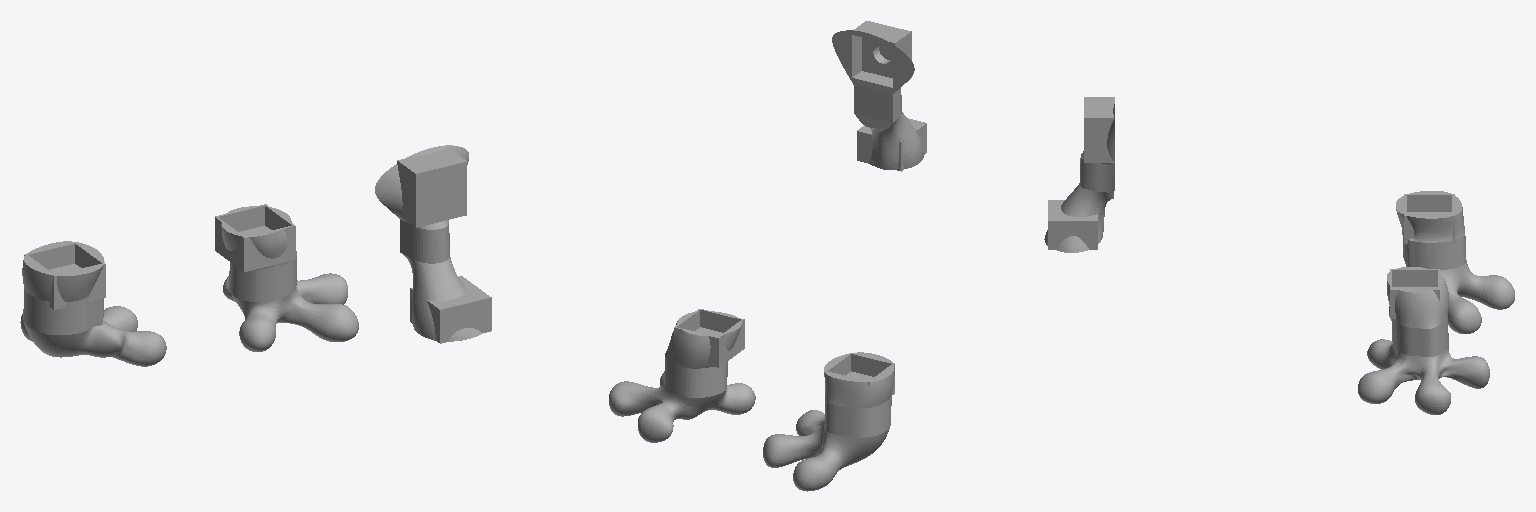
robot.urdf — FrogBot1_top-FrogBot1-z-6_bottom-FrogBot1-z-6:
<?xml version="1.0" ?>
<robot name="FrogBot1_top-FrogBot1-z-6_bottom-FrogBot1-z-6">

<material name="pla_5_percent_infill">
  <color rgba="0.700 0.700 0.700 1.000"/>
</material>

<link name="base_link">
  <inertial>
    <origin xyz="0 0 0" rpy="0 0 0"/>
    <mass value="1.4103143072721238"/>
    <inertia ixx="0.004671865419262023" iyy="0.01102984328633242" izz="0.011972094032648898" ixy="0.00015185420958179873" iyz="8.583160306759328e-05" ixz="-0.0012132770853355082"/>
  </inertial>
  <visual>
    <origin xyz="0 0 0" rpy="0 0 0"/>
    <geometry>
      <mesh filename="simple_meshes/base_link.stl" scale="0.001 0.001 0.001"/>
    </geometry>
    <material name="pla_5_percent_infill"/>
  </visual>
  <collision>
    <origin xyz="0 0 0" rpy="0 0 0"/>
    <geometry>
      <mesh filename="simple_meshes/base_link.stl" scale="0.001 0.001 0.001"/>
    </geometry>
  </collision>
</link>

<link name="body_1_0_1">
  <inertial>
    <origin xyz="-0.045735 -0.109621 -0.00462" rpy="0 0 0"/>
    <mass value="0.042742572720428126"/>
    <inertia ixx="4.8710943974901704e-05" iyy="5.044943592992317e-05" izz="1.5113327222513167e-05" ixy="-4.565019534397206e-07" iyz="3.393130632926215e-06" ixz="6.908643124618741e-07"/>
  </inertial>
  <visual>
    <origin xyz="-0.045735 -0.109621 -0.00462" rpy="0 0 0"/>
    <geometry>
      <mesh filename="simple_meshes/body_1_0_1.stl" scale="0.001 0.001 0.001"/>
    </geometry>
    <material name="pla_5_percent_infill"/>
  </visual>
  <collision>
    <origin xyz="-0.045735 -0.109621 -0.00462" rpy="0 0 0"/>
    <geometry>
      <mesh filename="simple_meshes/body_1_0_1.stl" scale="0.001 0.001 0.001"/>
    </geometry>
  </collision>
</link>

<link name="body_1_1_1">
  <inertial>
    <origin xyz="0.086489 -0.109621 -0.018802" rpy="0 0 0"/>
    <mass value="0.07791456159574267"/>
    <inertia ixx="9.462274355153972e-05" iyy="0.0001024098774370433" izz="4.409219128689943e-05" ixy="6.168907758929412e-06" iyz="1.469876848607843e-05" ixz="-2.2209793211704033e-05"/>
  </inertial>
  <visual>
    <origin xyz="0.086489 -0.109621 -0.018802" rpy="0 0 0"/>
    <geometry>
      <mesh filename="simple_meshes/body_1_1_1.stl" scale="0.001 0.001 0.001"/>
    </geometry>
    <material name="pla_5_percent_infill"/>
  </visual>
  <collision>
    <origin xyz="0.086489 -0.109621 -0.018802" rpy="0 0 0"/>
    <geometry>
      <mesh filename="simple_meshes/body_1_1_1.stl" scale="0.001 0.001 0.001"/>
    </geometry>
  </collision>
</link>

<link name="body_1_2_1">
  <inertial>
    <origin xyz="-0.040267 0.109621 -0.027764" rpy="0 0 0"/>
    <mass value="0.054416717684884486"/>
    <inertia ixx="9.263977416357509e-05" iyy="9.103442231563606e-05" izz="2.3599958893622507e-05" ixy="6.474362329348619e-07" iyz="-1.5155757341951589e-05" ixz="-1.843640372962491e-07"/>
  </inertial>
  <visual>
    <origin xyz="-0.040267 0.109621 -0.027764" rpy="0 0 0"/>
    <geometry>
      <mesh filename="simple_meshes/body_1_2_1.stl" scale="0.001 0.001 0.001"/>
    </geometry>
    <material name="pla_5_percent_infill"/>
  </visual>
  <collision>
    <origin xyz="-0.040267 0.109621 -0.027764" rpy="0 0 0"/>
    <geometry>
      <mesh filename="simple_meshes/body_1_2_1.stl" scale="0.001 0.001 0.001"/>
    </geometry>
  </collision>
</link>

<link name="body_1_3_1">
  <inertial>
    <origin xyz="0.090407 0.109621 -0.022193" rpy="0 0 0"/>
    <mass value="0.07768399971822645"/>
    <inertia ixx="0.0001030081594172701" iyy="0.00011277754791980707" izz="4.731999642966153e-05" ixy="-7.5628705072904034e-06" iyz="-1.8093607544711972e-05" ixz="-2.6787832639643986e-05"/>
  </inertial>
  <visual>
    <origin xyz="0.090407 0.109621 -0.022193" rpy="0 0 0"/>
    <geometry>
      <mesh filename="simple_meshes/body_1_3_1.stl" scale="0.001 0.001 0.001"/>
    </geometry>
    <material name="pla_5_percent_infill"/>
  </visual>
  <collision>
    <origin xyz="0.090407 0.109621 -0.022193" rpy="0 0 0"/>
    <geometry>
      <mesh filename="simple_meshes/body_1_3_1.stl" scale="0.001 0.001 0.001"/>
    </geometry>
  </collision>
</link>

<link name="body_2_0_1">
  <inertial>
    <origin xyz="-0.049562 -0.159797 0.105064" rpy="0 0 0"/>
    <mass value="0.11010024254701548"/>
    <inertia ixx="0.00014064391021919448" iyy="0.00015250270257096462" izz="0.00013727541771518456" ixy="-4.715563001325435e-06" iyz="-1.5036170661016958e-06" ixz="3.380651013575563e-05"/>
  </inertial>
  <visual>
    <origin xyz="-0.049562 -0.159797 0.105064" rpy="0 0 0"/>
    <geometry>
      <mesh filename="simple_meshes/body_2_0_1.stl" scale="0.001 0.001 0.001"/>
    </geometry>
    <material name="pla_5_percent_infill"/>
  </visual>
  <collision>
    <origin xyz="-0.049562 -0.159797 0.105064" rpy="0 0 0"/>
    <geometry>
      <mesh filename="simple_meshes/body_2_0_1.stl" scale="0.001 0.001 0.001"/>
    </geometry>
  </collision>
</link>

<link name="body_2_1_1">
  <inertial>
    <origin xyz="0.121182 -0.173952 0.105064" rpy="0 0 0"/>
    <mass value="0.12022395425541525"/>
    <inertia ixx="0.00014952592563838643" iyy="0.00016059723300055739" izz="0.00014891029064668156" ixy="1.289431637917053e-07" iyz="1.9849039915286956e-05" ixz="4.268614457408719e-05"/>
  </inertial>
  <visual>
    <origin xyz="0.121182 -0.173952 0.105064" rpy="0 0 0"/>
    <geometry>
      <mesh filename="simple_meshes/body_2_1_1.stl" scale="0.001 0.001 0.001"/>
    </geometry>
    <material name="pla_5_percent_infill"/>
  </visual>
  <collision>
    <origin xyz="0.121182 -0.173952 0.105064" rpy="0 0 0"/>
    <geometry>
      <mesh filename="simple_meshes/body_2_1_1.stl" scale="0.001 0.001 0.001"/>
    </geometry>
  </collision>
</link>

<link name="body_2_2_1">
  <inertial>
    <origin xyz="-0.04311 0.170506 0.105064" rpy="0 0 0"/>
    <mass value="0.11443521058306759"/>
    <inertia ixx="0.00015098591705875897" iyy="0.00014414775323390566" izz="0.0001415923545011969" ixy="1.207204939084397e-06" iyz="-8.086108890358566e-06" ixz="2.4437110452910906e-05"/>
  </inertial>
  <visual>
    <origin xyz="-0.04311 0.170506 0.105064" rpy="0 0 0"/>
    <geometry>
      <mesh filename="simple_meshes/body_2_2_1.stl" scale="0.001 0.001 0.001"/>
    </geometry>
    <material name="pla_5_percent_infill"/>
  </visual>
  <collision>
    <origin xyz="-0.04311 0.170506 0.105064" rpy="0 0 0"/>
    <geometry>
      <mesh filename="simple_meshes/body_2_2_1.stl" scale="0.001 0.001 0.001"/>
    </geometry>
  </collision>
</link>

<link name="body_2_3_1">
  <inertial>
    <origin xyz="0.129712 0.175384 0.105064" rpy="0 0 0"/>
    <mass value="0.1167874152074106"/>
    <inertia ixx="0.0001576077723947078" iyy="0.00015450436359291247" izz="0.00013660338909442932" ixy="6.289753455720592e-06" iyz="-2.5856747654466432e-05" ixz="4.078949079696324e-05"/>
  </inertial>
  <visual>
    <origin xyz="0.129712 0.175384 0.105064" rpy="0 0 0"/>
    <geometry>
      <mesh filename="simple_meshes/body_2_3_1.stl" scale="0.001 0.001 0.001"/>
    </geometry>
    <material name="pla_5_percent_infill"/>
  </visual>
  <collision>
    <origin xyz="0.129712 0.175384 0.105064" rpy="0 0 0"/>
    <geometry>
      <mesh filename="simple_meshes/body_2_3_1.stl" scale="0.001 0.001 0.001"/>
    </geometry>
  </collision>
</link>

<joint name="joint_1_0" type="revolute">
  <origin xyz="0.045735 0.109621 0.00462" rpy="0 0 0"/>
  <parent link="base_link"/>
  <child link="body_1_0_1"/>
  <axis xyz="0.0 1.0 0.0"/>
  <limit upper="1.2" lower="-1.2" effort="3.8" velocity="5.4"/>
</joint>
<transmission name="joint_1_0_tran">
  <type>transmission_interface/SimpleTransmission</type>
  <joint name="joint_1_0">
    <hardwareInterface>PositionJointInterface</hardwareInterface>
  </joint>
  <actuator name="joint_1_0_actr">
    <hardwareInterface>PositionJointInterface</hardwareInterface>
    <mechanicalReduction>1</mechanicalReduction>
  </actuator>
</transmission>

<joint name="joint_1_1" type="revolute">
  <origin xyz="-0.086489 0.109621 0.018802" rpy="0 0 0"/>
  <parent link="base_link"/>
  <child link="body_1_1_1"/>
  <axis xyz="0.0 1.0 0.0"/>
  <limit upper="1.2" lower="-1.2" effort="3.8" velocity="5.4"/>
</joint>
<transmission name="joint_1_1_tran">
  <type>transmission_interface/SimpleTransmission</type>
  <joint name="joint_1_1">
    <hardwareInterface>PositionJointInterface</hardwareInterface>
  </joint>
  <actuator name="joint_1_1_actr">
    <hardwareInterface>PositionJointInterface</hardwareInterface>
    <mechanicalReduction>1</mechanicalReduction>
  </actuator>
</transmission>

<joint name="joint_1_2" type="revolute">
  <origin xyz="0.040267 -0.109621 0.027764" rpy="0 0 0"/>
  <parent link="base_link"/>
  <child link="body_1_2_1"/>
  <axis xyz="0.0 1.0 0.0"/>
  <limit upper="1.2" lower="-1.2" effort="3.8" velocity="5.4"/>
</joint>
<transmission name="joint_1_2_tran">
  <type>transmission_interface/SimpleTransmission</type>
  <joint name="joint_1_2">
    <hardwareInterface>PositionJointInterface</hardwareInterface>
  </joint>
  <actuator name="joint_1_2_actr">
    <hardwareInterface>PositionJointInterface</hardwareInterface>
    <mechanicalReduction>1</mechanicalReduction>
  </actuator>
</transmission>

<joint name="joint_1_3" type="revolute">
  <origin xyz="-0.090407 -0.109621 0.022193" rpy="0 0 0"/>
  <parent link="base_link"/>
  <child link="body_1_3_1"/>
  <axis xyz="0.0 1.0 0.0"/>
  <limit upper="1.2" lower="-1.2" effort="3.8" velocity="5.4"/>
</joint>
<transmission name="joint_1_3_tran">
  <type>transmission_interface/SimpleTransmission</type>
  <joint name="joint_1_3">
    <hardwareInterface>PositionJointInterface</hardwareInterface>
  </joint>
  <actuator name="joint_1_3_actr">
    <hardwareInterface>PositionJointInterface</hardwareInterface>
    <mechanicalReduction>1</mechanicalReduction>
  </actuator>
</transmission>

<joint name="joint_2_0" type="revolute">
  <origin xyz="0.003827 0.050176 -0.109684" rpy="0 0 0"/>
  <parent link="body_1_0_1"/>
  <child link="body_2_0_1"/>
  <axis xyz="0.0 0.0 1.0"/>
  <limit upper="1.2" lower="-1.2" effort="3.8" velocity="5.4"/>
</joint>
<transmission name="joint_2_0_tran">
  <type>transmission_interface/SimpleTransmission</type>
  <joint name="joint_2_0">
    <hardwareInterface>PositionJointInterface</hardwareInterface>
  </joint>
  <actuator name="joint_2_0_actr">
    <hardwareInterface>PositionJointInterface</hardwareInterface>
    <mechanicalReduction>1</mechanicalReduction>
  </actuator>
</transmission>

<joint name="joint_2_1" type="revolute">
  <origin xyz="-0.034693 0.064331 -0.123866" rpy="0 0 0"/>
  <parent link="body_1_1_1"/>
  <child link="body_2_1_1"/>
  <axis xyz="0.0 0.0 1.0"/>
  <limit upper="1.2" lower="-1.2" effort="3.8" velocity="5.4"/>
</joint>
<transmission name="joint_2_1_tran">
  <type>transmission_interface/SimpleTransmission</type>
  <joint name="joint_2_1">
    <hardwareInterface>PositionJointInterface</hardwareInterface>
  </joint>
  <actuator name="joint_2_1_actr">
    <hardwareInterface>PositionJointInterface</hardwareInterface>
    <mechanicalReduction>1</mechanicalReduction>
  </actuator>
</transmission>

<joint name="joint_2_2" type="revolute">
  <origin xyz="0.002843 -0.060885 -0.132828" rpy="0 0 0"/>
  <parent link="body_1_2_1"/>
  <child link="body_2_2_1"/>
  <axis xyz="0.0 0.0 1.0"/>
  <limit upper="1.2" lower="-1.2" effort="3.8" velocity="5.4"/>
</joint>
<transmission name="joint_2_2_tran">
  <type>transmission_interface/SimpleTransmission</type>
  <joint name="joint_2_2">
    <hardwareInterface>PositionJointInterface</hardwareInterface>
  </joint>
  <actuator name="joint_2_2_actr">
    <hardwareInterface>PositionJointInterface</hardwareInterface>
    <mechanicalReduction>1</mechanicalReduction>
  </actuator>
</transmission>

<joint name="joint_2_3" type="revolute">
  <origin xyz="-0.039305 -0.065763 -0.127257" rpy="0 0 0"/>
  <parent link="body_1_3_1"/>
  <child link="body_2_3_1"/>
  <axis xyz="0.0 0.0 1.0"/>
  <limit upper="1.2" lower="-1.2" effort="3.8" velocity="5.4"/>
</joint>
<transmission name="joint_2_3_tran">
  <type>transmission_interface/SimpleTransmission</type>
  <joint name="joint_2_3">
    <hardwareInterface>PositionJointInterface</hardwareInterface>
  </joint>
  <actuator name="joint_2_3_actr">
    <hardwareInterface>PositionJointInterface</hardwareInterface>
    <mechanicalReduction>1</mechanicalReduction>
  </actuator>
</transmission>

</robot>

--- What the picture shows (computed from the rendered views, not written in the file) ---
The picture shows the robot from 3 angles, left to right: view 1: azimuth 30°, elevation 25°; view 2: azimuth 150°, elevation 25°; view 3: azimuth 270°, elevation 25°; orthographic projection.
Robot: FrogBot1_top-FrogBot1-z-6_bottom-FrogBot1-z-6 — 9 links, 8 joints (8 revolute); root link base_link; default pose: all joints at 0.
Visible links, largest first — view 1: body_1_2_1, body_2_0_1, body_2_1_1; view 2: body_2_1_1, body_2_0_1, body_1_2_1; view 3: body_2_0_1, body_2_1_1, body_1_2_1.
Link boxes in pixels (x1,y1,x2,y2): body_1_2_1: [375, 145, 491, 343]; body_2_0_1: [215, 204, 358, 351]; body_2_1_1: [20, 241, 166, 366]; body_2_1_1: [763, 352, 894, 491]; body_2_0_1: [609, 309, 755, 442]; body_1_2_1: [832, 21, 926, 171]; body_2_0_1: [1358, 267, 1489, 414]; body_2_1_1: [1389, 191, 1514, 333]; body_1_2_1: [1044, 97, 1114, 252].
Bounding box of the posed robot: 0.2983 × 0.4553 × 0.2885 m (x, y, z).
Meshes: 9 distinct files referenced, 3 mesh visuals loaded (3 binary STL); not drawn: 6 (reference not matched to a file when rendering).